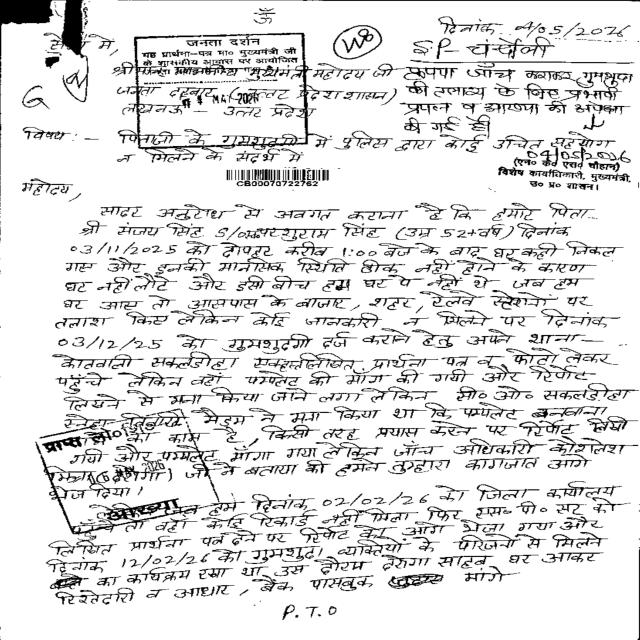antritgovtstamp: (21, 414, 223, 534)
barcode: (222, 165, 342, 194)
jantadarsan: (127, 31, 314, 153)
signnamestamp: (494, 110, 640, 198)
